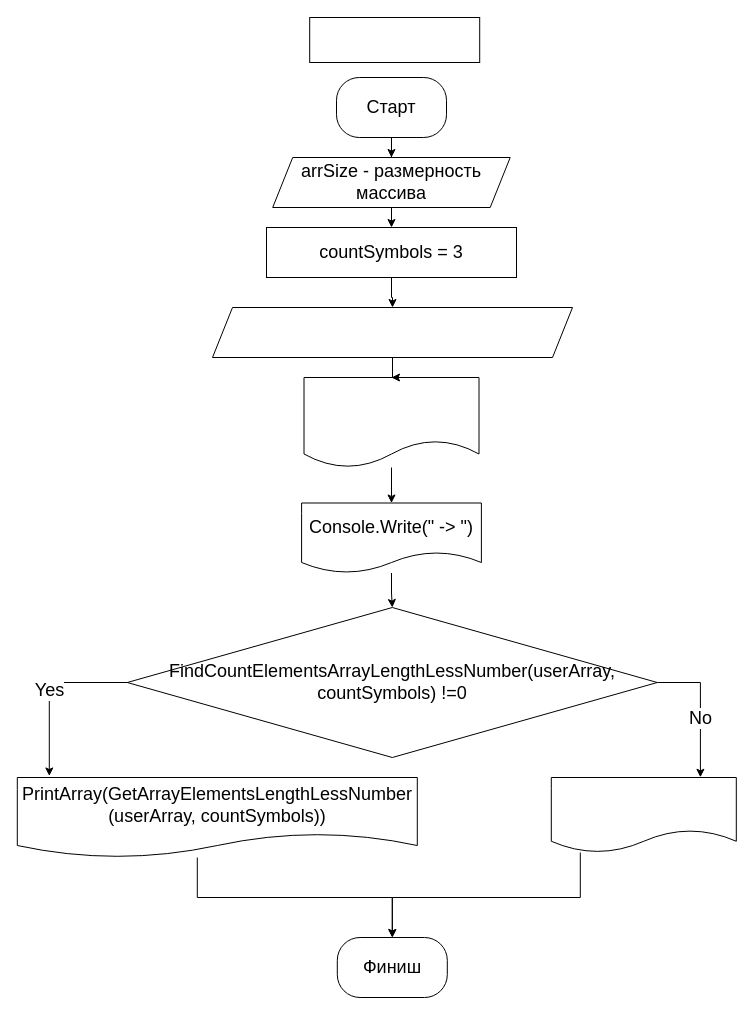
This 754x1015 diagram has some shape labels left out. Each missing label, with the centre of its shape:
Console.Write("[]"): (x=643, y=814)
Main: (x=394, y=39)
PrintArray(userArray): (x=391, y=422)
string[] userArray = FillArrayFromUser(arrSize): (x=392, y=332)
